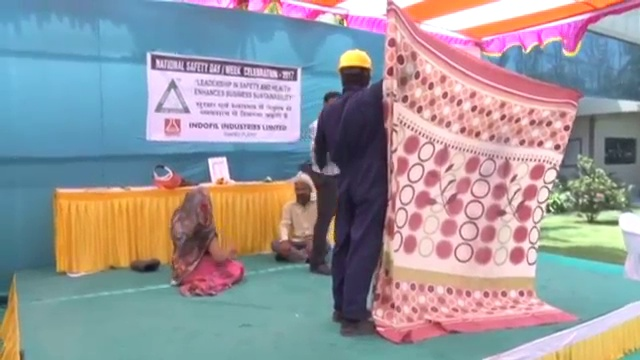helmet: (337, 46, 373, 72)
helmet_off: (180, 188, 211, 210), (292, 170, 311, 205), (321, 89, 340, 111)
helmet_on: (337, 46, 374, 91)
person: (323, 46, 391, 339), (166, 189, 243, 296), (313, 89, 342, 280), (277, 169, 319, 262)
